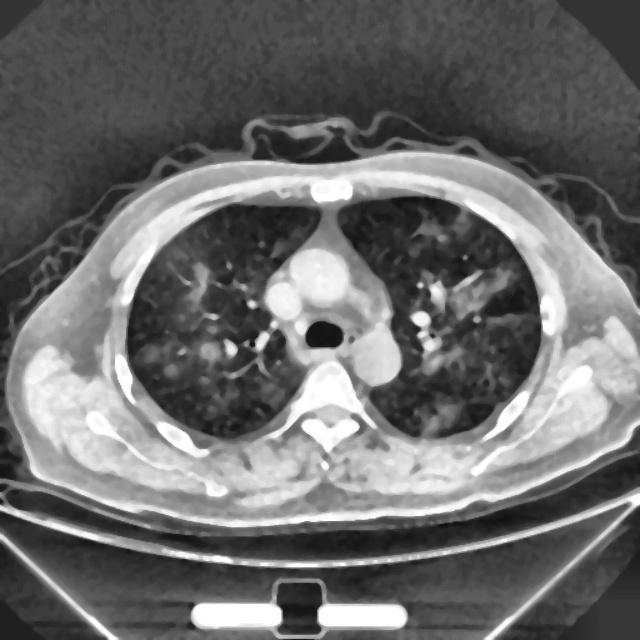covid: (4, 112, 638, 538)
